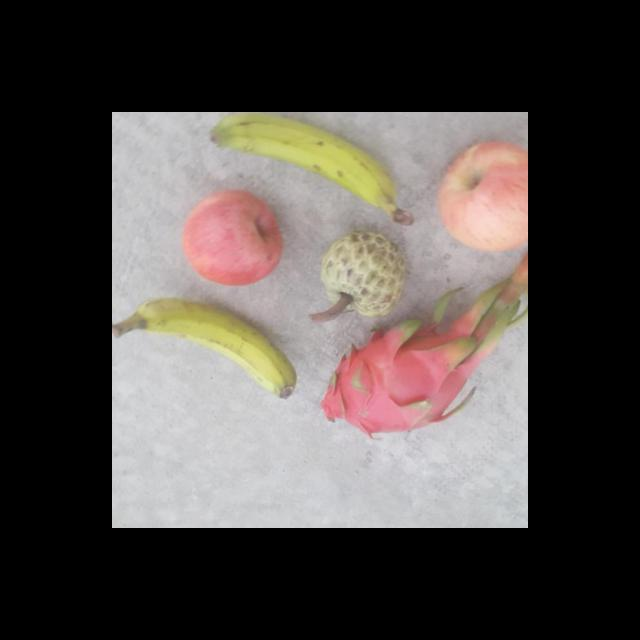Sakya fruit: (314, 229, 412, 320)
apple: (430, 136, 528, 254), (179, 190, 285, 288)
banana: (210, 112, 411, 228), (113, 290, 300, 402)
pitaya: (308, 319, 486, 445)
